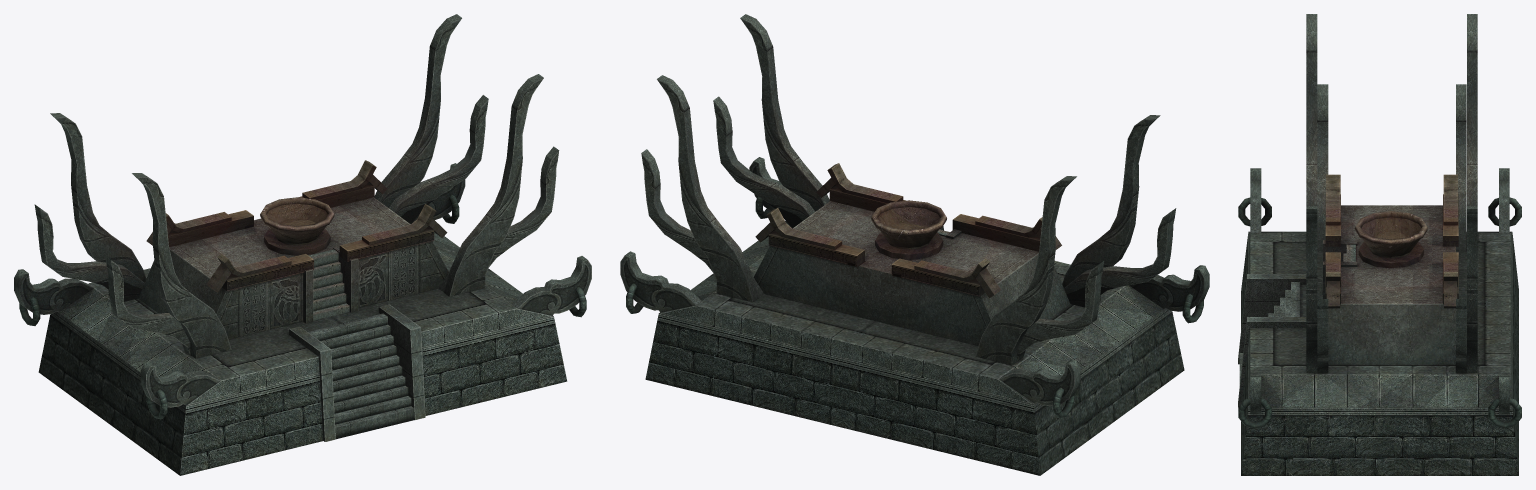
Rendered from main_altar_001.glb.
3 renders of one model, left to right at view 1: azimuth 30°, elevation 25°; view 2: azimuth 150°, elevation 25°; view 3: azimuth 270°, elevation 25°, orthographic. The views are drawn at different scales.
Parts seen in each view (by area): view 1: main_altar_001; view 2: main_altar_001; view 3: main_altar_001.
Part boxes in pixels (x1,y1,x2,y2): main_altar_001: (14,14,591,475); main_altar_001: (620,14,1209,475); main_altar_001: (1238,14,1521,475).
Bounding box in the file's own units: 15.16 × 8.96 × 8.46.
Materials: 1 (1 with a texture image).
